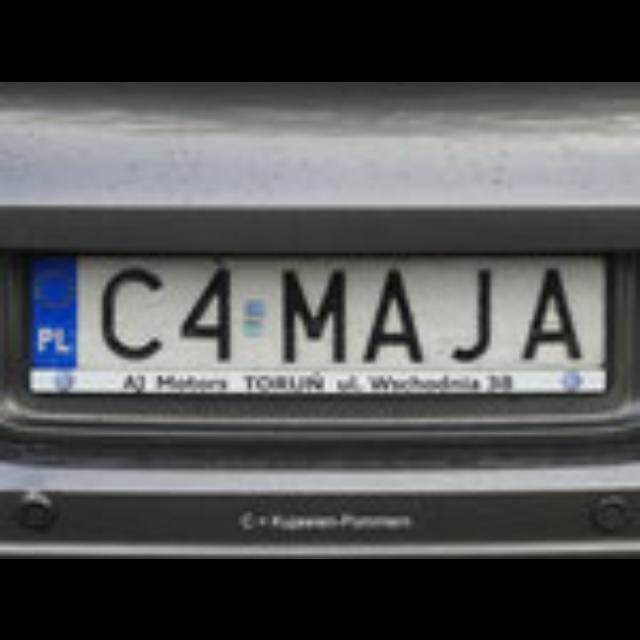pl_license_plate: (26, 248, 602, 362)
